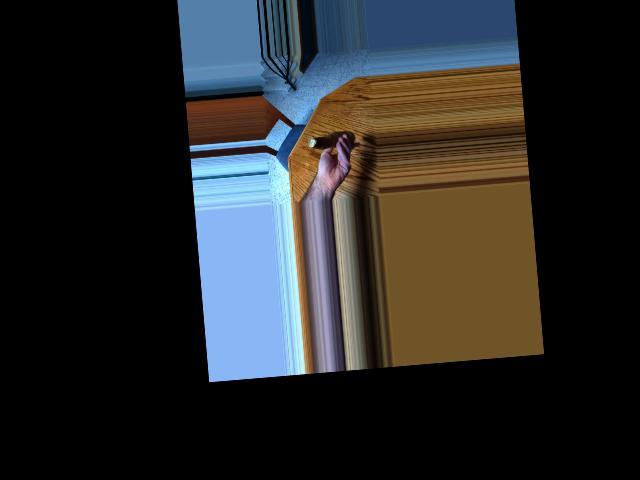sweet_potato: (310, 128, 351, 153)
